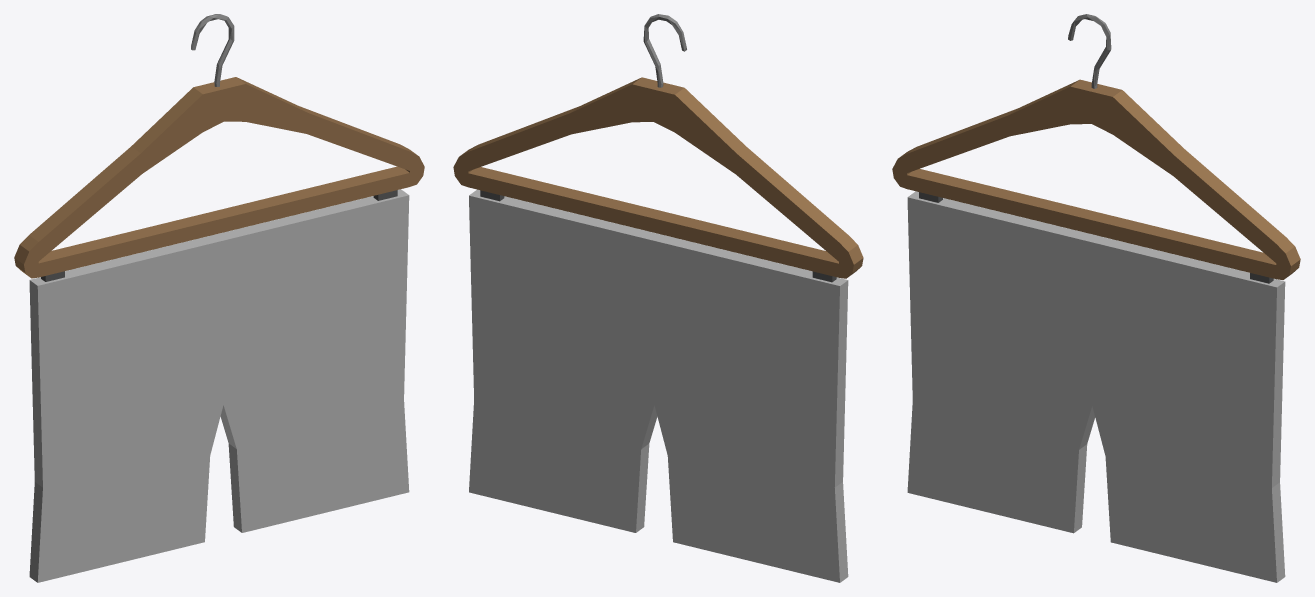
Rendered from Clothes8_C1.fbx.
3 renders of one model, left to right at view 1: azimuth 30°, elevation 25°; view 2: azimuth 150°, elevation 25°; view 3: azimuth 330°, elevation 25°, orthographic.
Visible parts, largest first — view 1: Clothes8_C1; view 2: Clothes8_C1; view 3: Clothes8_C1.
Boxes of the visible parts, box(x1,y1,x2,y2) form: Clothes8_C1: box(14, 14, 424, 582); Clothes8_C1: box(453, 14, 863, 582); Clothes8_C1: box(892, 14, 1300, 582).
Size of the model in its own units: 42.14 by 52.38 by 1.76.
